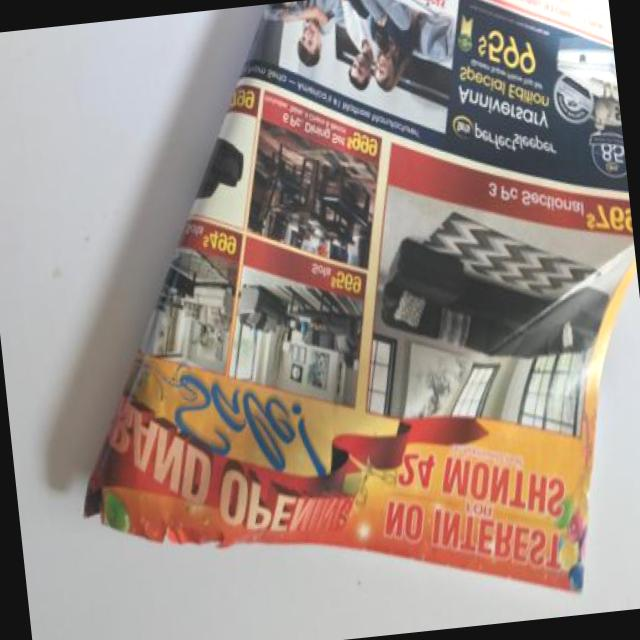paper: (101, 0, 640, 573)
